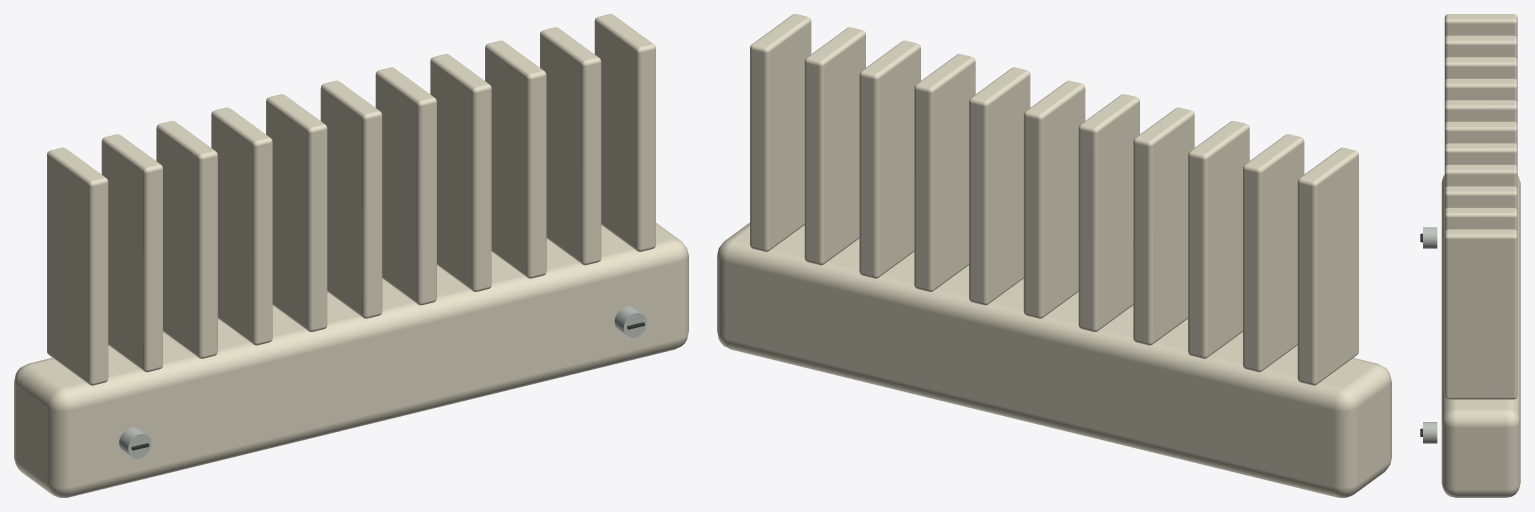
The model's file is abandoned-telephone-exchange-cable-lacing-comb-880bdf7d__32003.glb.
The picture shows the model from 3 angles, left to right: view 1: azimuth 30°, elevation 25°; view 2: azimuth 150°, elevation 25°; view 3: azimuth 270°, elevation 25°; orthographic projection. The views are drawn at different scales.
Visible parts, largest first — view 1: cable-lacing-comb; view 2: cable-lacing-comb; view 3: cable-lacing-comb.
Part boxes in pixels (x1=…): cable-lacing-comb: x1=14, y1=14, x2=688, y2=497; cable-lacing-comb: x1=717, y1=14, x2=1391, y2=497; cable-lacing-comb: x1=1420, y1=14, x2=1520, y2=497.
Bounding box in the file's own units: 0.49 × 0.23 × 0.0825.
